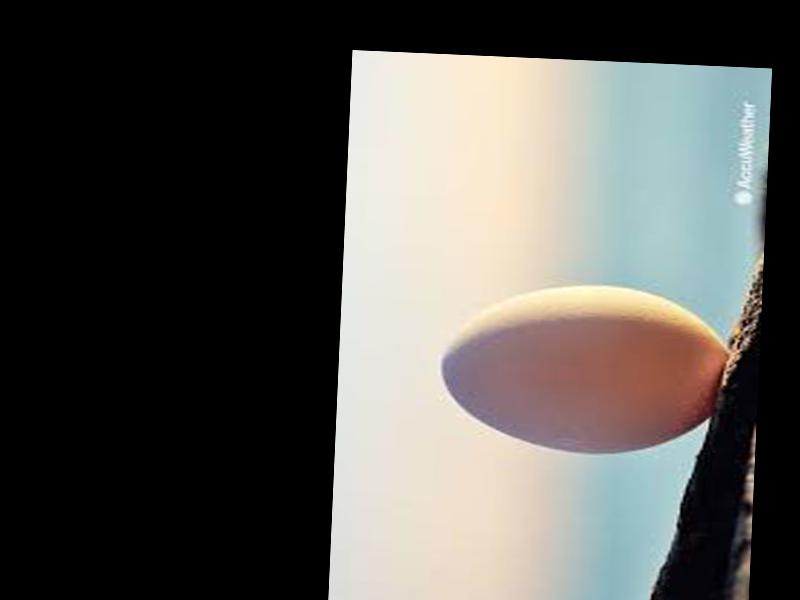Eggs: (435, 277, 727, 460)
